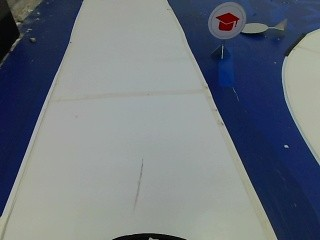school: (208, 0, 244, 42)
